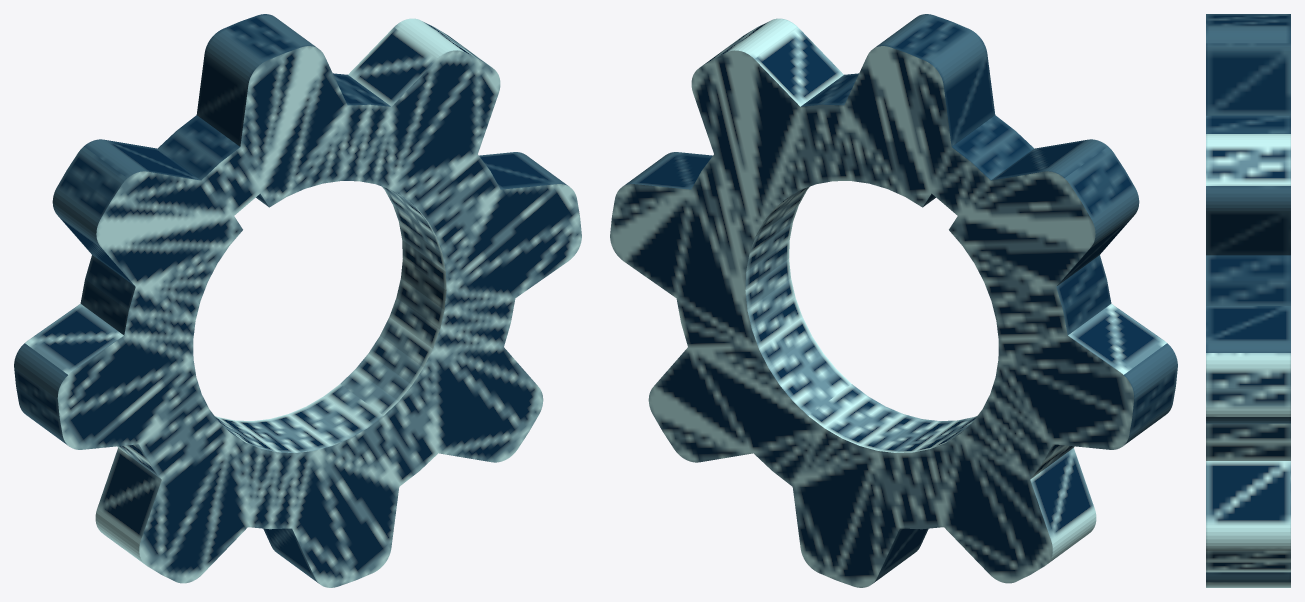
The model's file is Mold4-Pinion gear-M.glb.
3 renders of one model, left to right at view 1: azimuth 30°, elevation 25°; view 2: azimuth 150°, elevation 25°; view 3: azimuth 270°, elevation 25°, orthographic. The views are drawn at different scales.
Visible parts, largest first — view 1: GERGTGQ - PIGNON-3; view 2: GERGTGQ - PIGNON-3; view 3: GERGTGQ - PIGNON-3.
Part boxes in pixels (bbox=[...]): GERGTGQ - PIGNON-3: bbox=[14, 14, 581, 587]; GERGTGQ - PIGNON-3: bbox=[610, 14, 1177, 587]; GERGTGQ - PIGNON-3: bbox=[1206, 14, 1290, 587].
Size of the model in its own units: 2.47 by 2.47 by 0.3561.
1 material, 1 textured.
